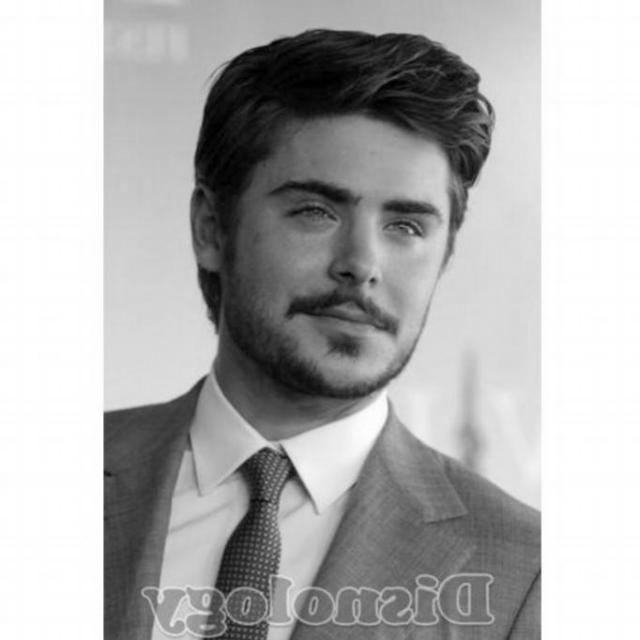real: (222, 110, 464, 398)
